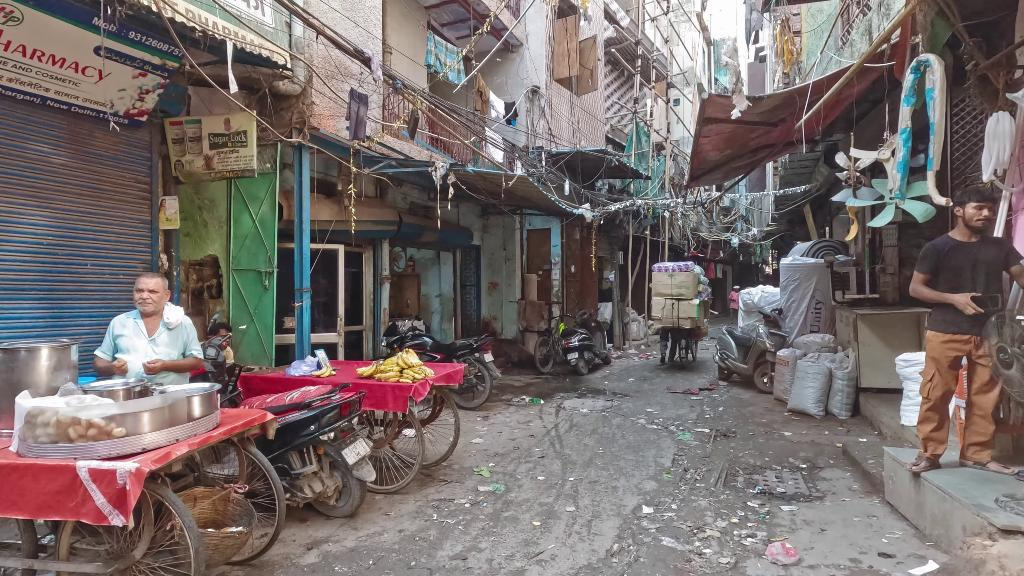garbage: (763, 537, 802, 568), (900, 553, 949, 576), (476, 460, 504, 499), (509, 391, 547, 408)
